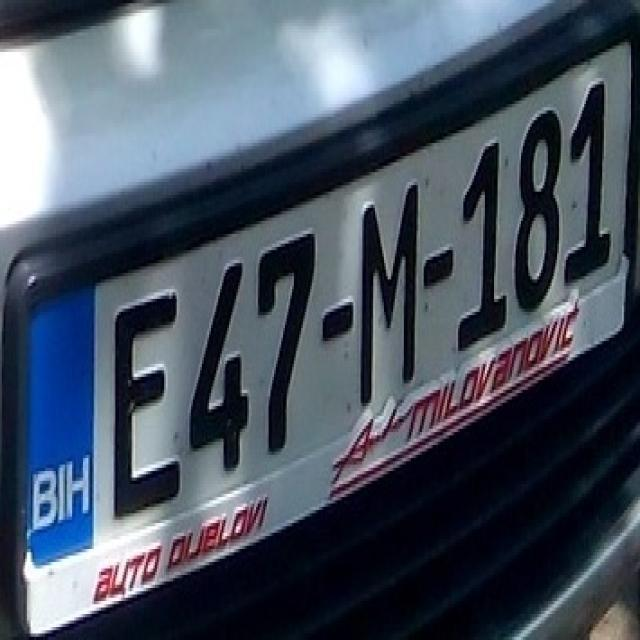1: (444, 117, 516, 351), (557, 62, 620, 280)
4: (178, 244, 252, 472)
7: (246, 214, 320, 462)
8: (503, 94, 568, 312)
E: (98, 276, 186, 526)
M: (338, 169, 426, 403)
